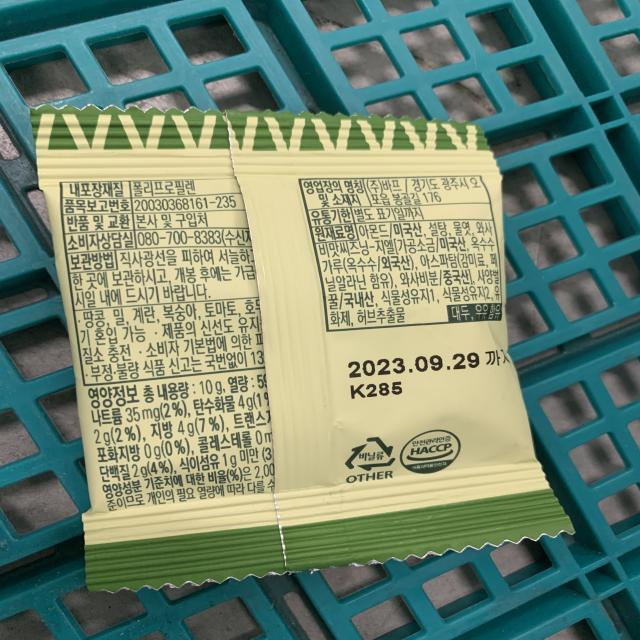object_name: (34, 109, 573, 552)
